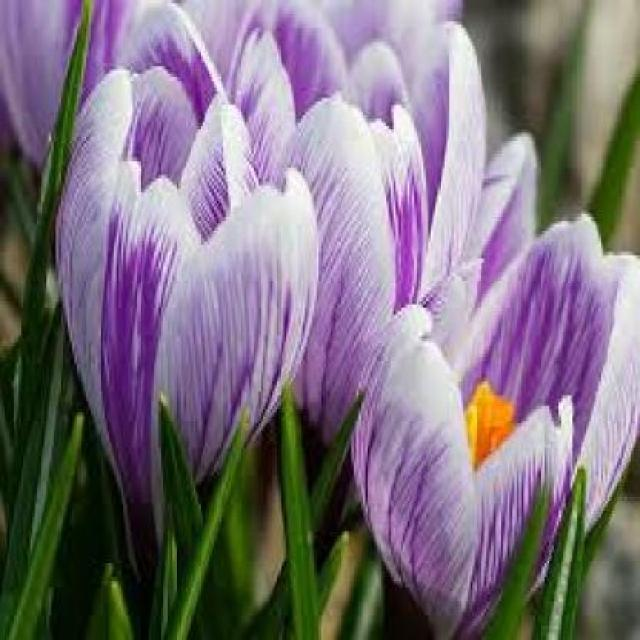Flower: (59, 69, 319, 557), (358, 209, 638, 640)
